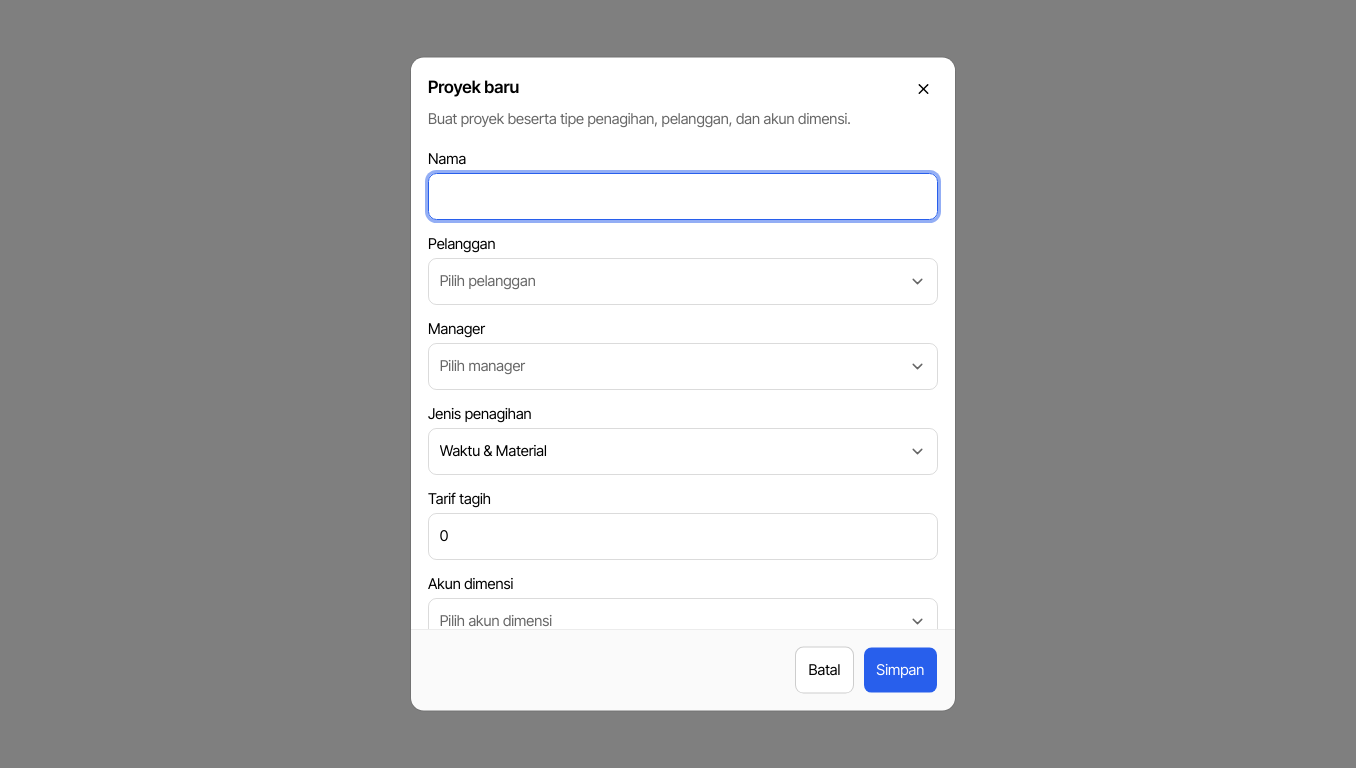
ProjectFormDialog branches › blocks submit when name and customer are missing
expect the heading "Proyek baru" is shown: met, box [428,75,519,100]
Click the button "Simpan" at [900, 670], box [863,647,938,693]
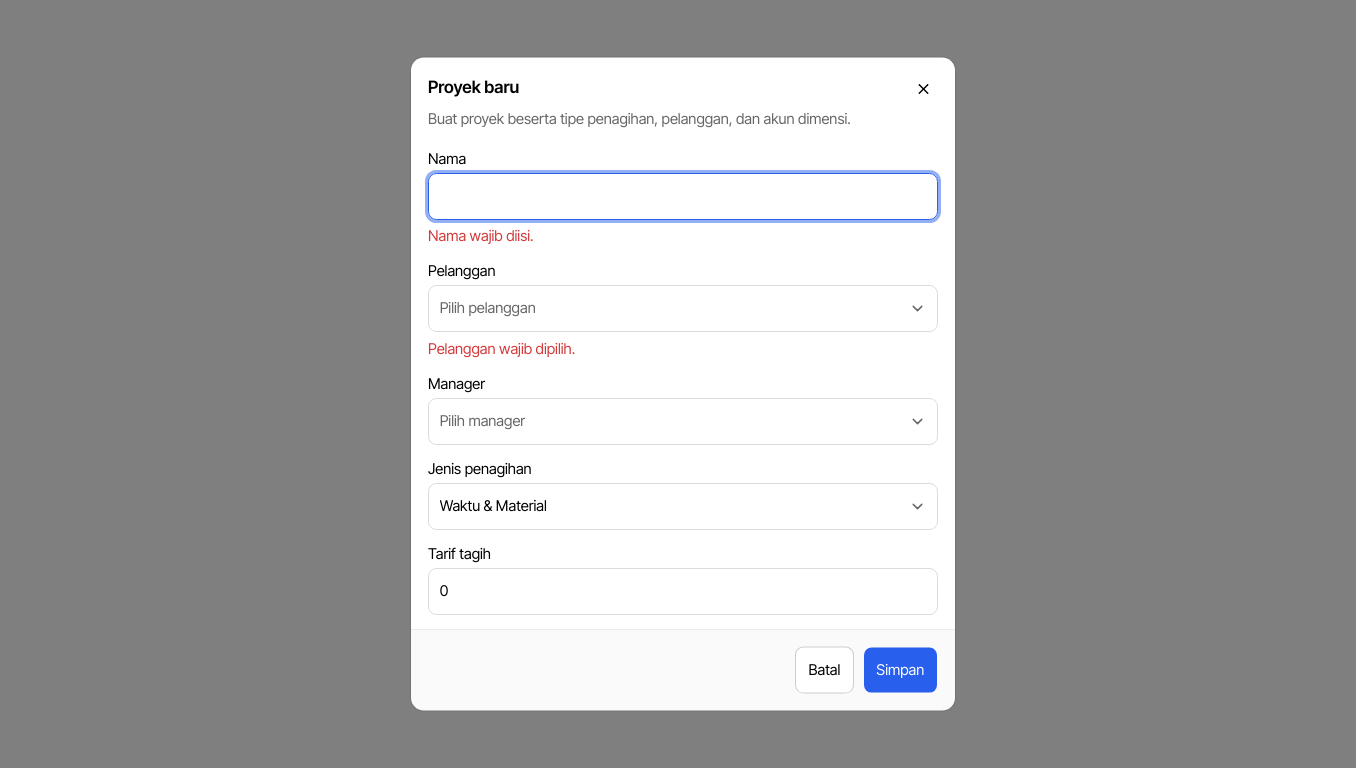
expect the text "Nama wajib diisi." is shown: met, box [428,226,534,244]
